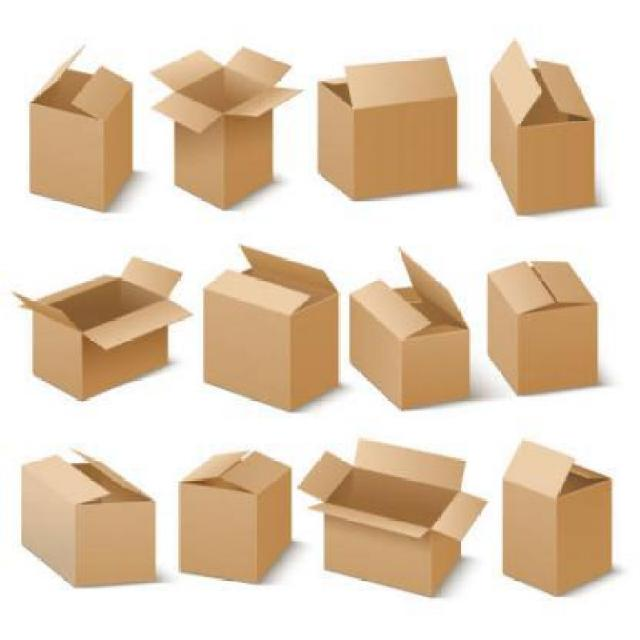Boxes: (303, 438, 488, 599), (150, 48, 301, 208), (18, 256, 187, 398), (204, 244, 340, 410), (483, 38, 602, 213), (319, 57, 462, 202), (348, 251, 474, 409), (15, 450, 158, 588), (497, 440, 612, 598), (31, 47, 135, 213), (484, 258, 600, 398), (176, 450, 296, 582)
